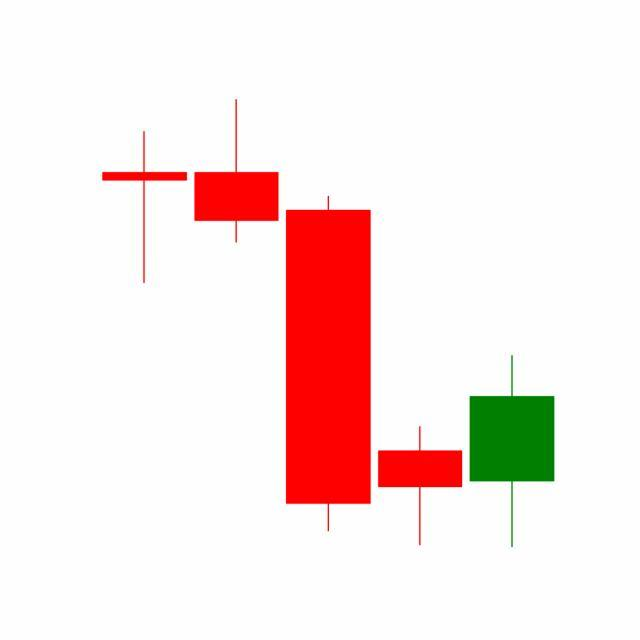Unique 3 River: (280, 192, 555, 548)
